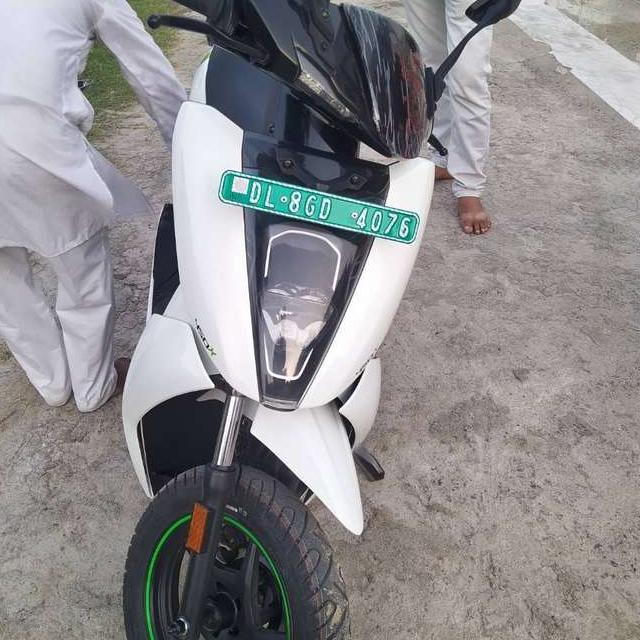Indian_Number_Plate: (221, 171, 423, 244)
